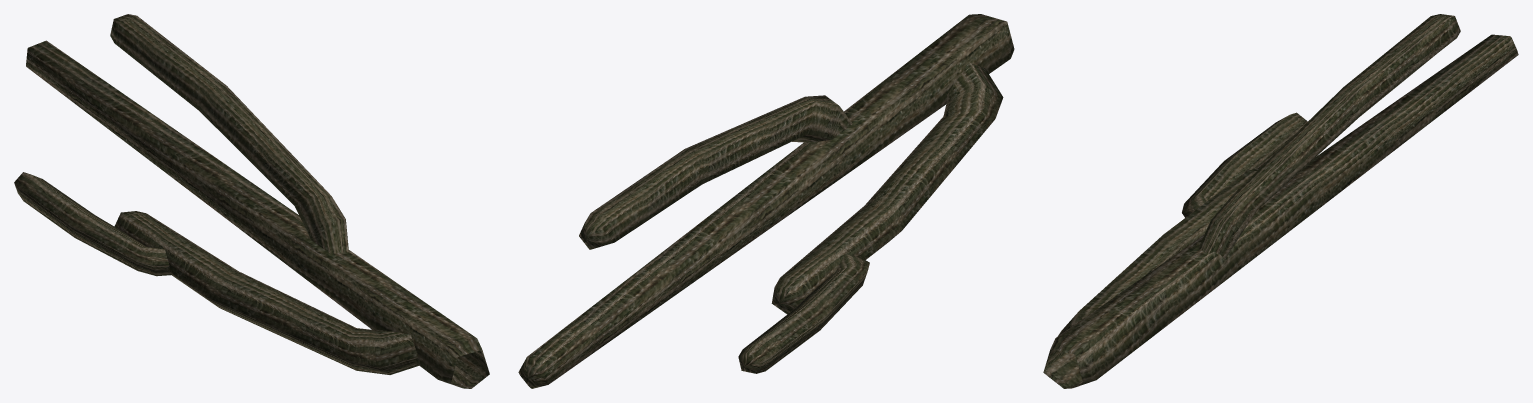
File: MEP_Cactus_C_04.fbx
The picture shows the model from 3 angles, left to right: view 1: azimuth 30°, elevation 25°; view 2: azimuth 150°, elevation 25°; view 3: azimuth 330°, elevation 25°; orthographic projection. The views are drawn at different scales.
Parts seen in each view (by area): view 1: MEP_Cactus_C_04; view 2: MEP_Cactus_C_04; view 3: MEP_Cactus_C_04.
Boxes of the visible parts, x1,y1,x2,y2 form: MEP_Cactus_C_04: [14, 14, 489, 388]; MEP_Cactus_C_04: [518, 14, 1014, 388]; MEP_Cactus_C_04: [1043, 14, 1518, 388].
Size of the model in its own units: 1.75 by 1.53 by 8.74.
1 material, 1 textured.
